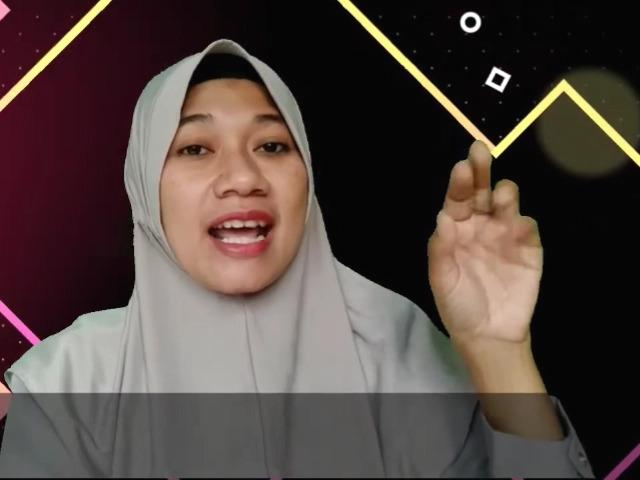R: (418, 135, 550, 353)
